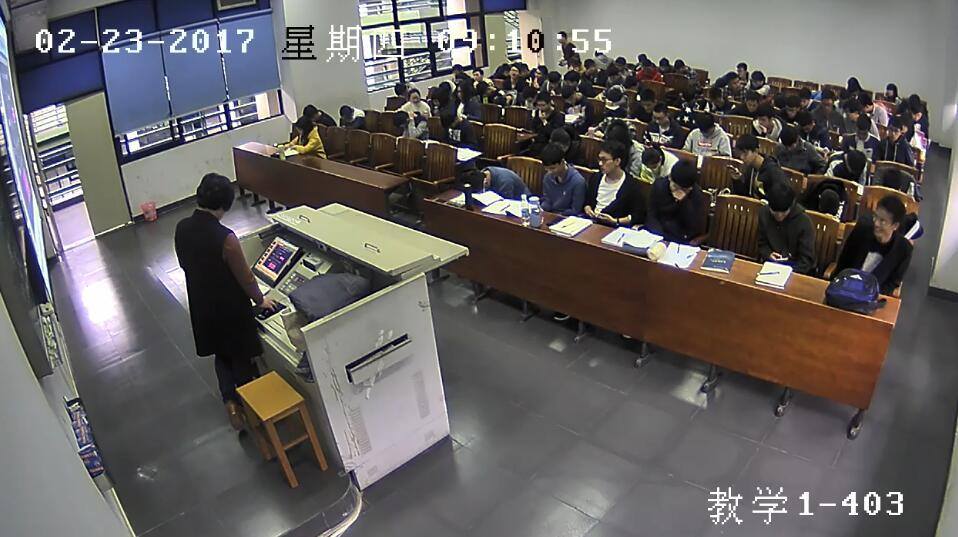head: (192, 171, 235, 211), (758, 178, 790, 222), (667, 159, 695, 197), (876, 165, 918, 190), (871, 199, 899, 234), (596, 138, 623, 172), (817, 184, 842, 215), (842, 146, 868, 173), (539, 148, 563, 174), (600, 117, 624, 141), (458, 168, 483, 191), (734, 133, 757, 158), (694, 116, 718, 139), (641, 144, 666, 166), (778, 125, 801, 148), (843, 99, 866, 122), (544, 125, 568, 147), (471, 83, 497, 103), (610, 51, 635, 71), (561, 66, 581, 90), (807, 123, 829, 143), (818, 88, 837, 110), (902, 91, 925, 109), (783, 94, 802, 115), (713, 72, 737, 88), (758, 105, 774, 129), (852, 94, 870, 115), (795, 85, 812, 107), (389, 110, 408, 129), (454, 80, 472, 100), (600, 64, 620, 82), (438, 111, 460, 127), (426, 83, 441, 106), (528, 63, 546, 82), (542, 68, 561, 86), (678, 84, 697, 102), (437, 78, 452, 100), (292, 116, 310, 134), (703, 83, 721, 101), (853, 115, 870, 134), (492, 63, 511, 80), (884, 118, 900, 138), (602, 84, 623, 99), (640, 91, 656, 110), (652, 106, 668, 125), (557, 83, 576, 99), (767, 93, 782, 113), (536, 93, 553, 110), (520, 94, 542, 107), (301, 102, 316, 121), (670, 57, 690, 71), (845, 76, 859, 96), (336, 101, 353, 117), (744, 90, 759, 108), (907, 102, 921, 121), (504, 64, 519, 81), (510, 57, 528, 71), (748, 70, 762, 88), (736, 72, 748, 93), (624, 72, 639, 87), (566, 52, 579, 69), (655, 53, 669, 68), (882, 82, 895, 97), (735, 63, 750, 75), (409, 88, 420, 104), (471, 65, 482, 81), (451, 62, 464, 75), (393, 82, 404, 96), (555, 28, 566, 42), (583, 57, 596, 68), (632, 55, 648, 61)
